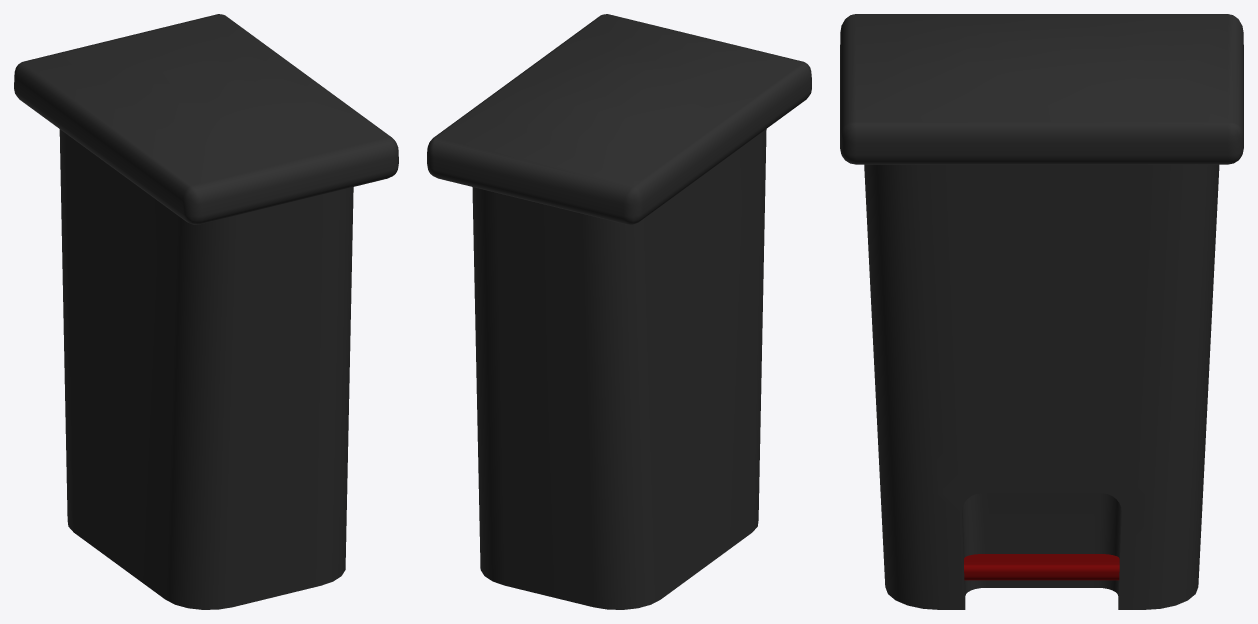
File: Poubelle_4.fbx
3 renders of one model, left to right at view 1: azimuth 30°, elevation 25°; view 2: azimuth 150°, elevation 25°; view 3: azimuth 270°, elevation 25°, orthographic. The views are drawn at different scales.
Parts seen in each view (by area): view 1: pCube157, pCube159; view 2: pCube157, pCube159; view 3: pCube157, pCube159, pCube163.
Boxes of the visible parts, bbox=[...] form: pCube157: bbox=[59, 129, 353, 609]; pCube159: bbox=[14, 14, 398, 224]; pCube157: bbox=[472, 129, 766, 609]; pCube159: bbox=[427, 14, 811, 224]; pCube157: bbox=[864, 164, 1219, 609]; pCube159: bbox=[840, 14, 1243, 164]; pCube163: bbox=[964, 554, 1119, 580].
Size of the model in its own units: 19.28 by 39.81 by 28.3.
